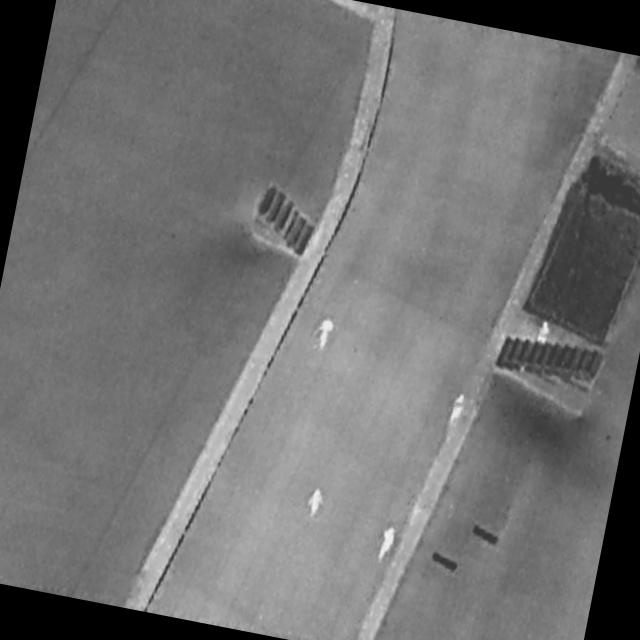person: (376, 524, 400, 567), (314, 315, 337, 353), (307, 484, 328, 521), (448, 390, 468, 427), (537, 319, 554, 348)
